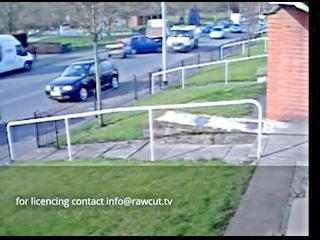Car: (55, 60, 117, 100), (109, 19, 165, 53), (0, 34, 36, 72), (165, 24, 200, 54), (125, 36, 166, 56), (210, 26, 223, 40), (201, 23, 212, 33), (231, 23, 242, 32)
Minor Accident: (110, 18, 167, 57)
